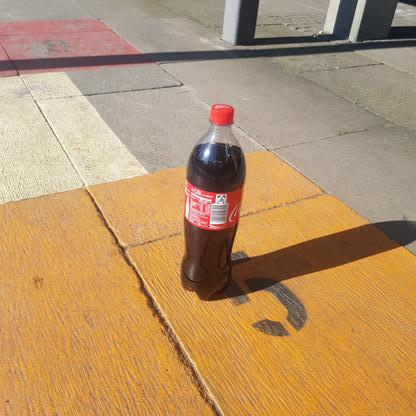coca-cola: (181, 103, 248, 300)
